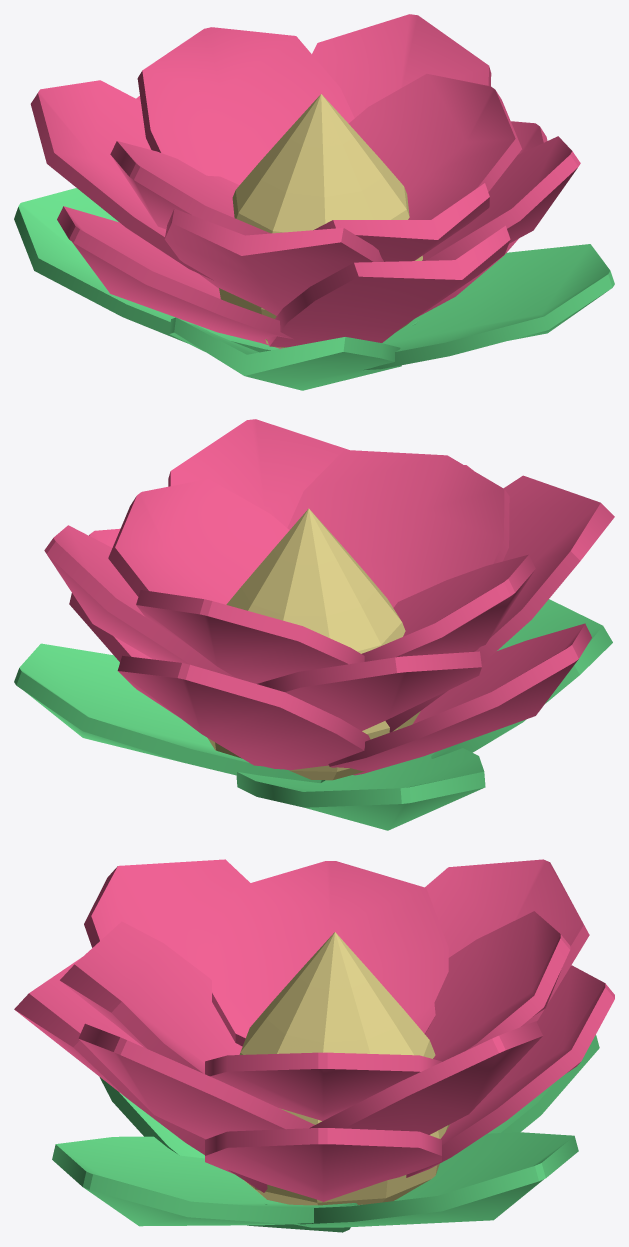
The model's file is nenuphare-fleuri.glb.
The picture shows the model from 3 angles, top to bottom: view 1: azimuth 30°, elevation 25°; view 2: azimuth 150°, elevation 25°; view 3: azimuth 270°, elevation 25°; orthographic projection. The views are drawn at different scales.
Parts seen in each view (by area): view 1: pCube5, pCube1, pCube10 polySurface35, pCube10 polySurface36, pCube14, pCube10 polySurface33, pCube10 polySurface32, pCube13, pCube10 polySurface34, polySurface38 pCube10, pCube10 polySurface39, pCube10 polySurface31 (+3 smaller); view 2: pCube4, pCube1, pCube12, pCube10 polySurface35, pCube10 polySurface37, pCube13, pCube5, polySurface38 pCube10, pCube10 polySurface32, pCube10 polySurface31, pCube10 polySurface33, pCube2 (+3 smaller); view 3: pCube2, pCube10 polySurface35, pCube10 polySurface36, pCube4, pCube5, pCube11, pCube10 polySurface37, pCube10 polySurface32, pCube10 polySurface33, pCube10 polySurface31, pCube12, pCube1 (+4 smaller).
Boxes of the visible parts, x1=… form: pCube5: x1=137, y1=27, x2=354, y2=184; pCube1: x1=348, y1=74, x2=521, y2=219; pCube10 polySurface35: x1=219, y1=94, x2=422, y2=347; pCube10 polySurface36: x1=362, y1=244, x2=614, y2=371; pCube14: x1=266, y1=225, x2=510, y2=347; pCube10 polySurface33: x1=30, y1=80, x2=213, y2=280; pCube10 polySurface32: x1=164, y1=208, x2=383, y2=315; pCube13: x1=57, y1=206, x2=293, y2=348; pCube10 polySurface34: x1=312, y1=14, x2=491, y2=117; polySurface38 pCube10: x1=14, y1=188, x2=279, y2=352; pCube10 polySurface39: x1=169, y1=317, x2=401, y2=390; pCube10 polySurface31: x1=422, y1=136, x2=580, y2=260; pCube4: x1=287, y1=450, x2=509, y2=607; pCube1: x1=108, y1=479, x2=289, y2=604; pCube12: x1=117, y1=655, x2=370, y2=770; pCube10 polySurface35: x1=208, y1=508, x2=420, y2=780; pCube10 polySurface37: x1=14, y1=643, x2=325, y2=783; pCube13: x1=328, y1=623, x2=591, y2=775; pCube5: x1=136, y1=590, x2=364, y2=683; polySurface38 pCube10: x1=236, y1=748, x2=485, y2=830; pCube10 polySurface32: x1=385, y1=475, x2=614, y2=732; pCube10 polySurface31: x1=168, y1=419, x2=349, y2=527; pCube10 polySurface33: x1=257, y1=651, x2=481, y2=730; pCube2: x1=362, y1=554, x2=535, y2=661; pCube2: x1=212, y1=861, x2=448, y2=1046; pCube10 polySurface35: x1=239, y1=932, x2=449, y2=1205; pCube10 polySurface36: x1=52, y1=1136, x2=357, y2=1226; pCube4: x1=60, y1=921, x2=242, y2=1073; pCube5: x1=425, y1=911, x2=570, y2=1061; pCube11: x1=205, y1=1128, x2=441, y2=1201; pCube10 polySurface37: x1=265, y1=1132, x2=578, y2=1227; pCube10 polySurface32: x1=84, y1=859, x2=249, y2=979; pCube10 polySurface33: x1=425, y1=859, x2=589, y2=1026; pCube10 polySurface31: x1=78, y1=1023, x2=314, y2=1139; pCube12: x1=406, y1=965, x2=614, y2=1177; pCube1: x1=205, y1=1052, x2=441, y2=1120.
Size of the model in its own units: 2.47 by 1.4 by 2.54.
